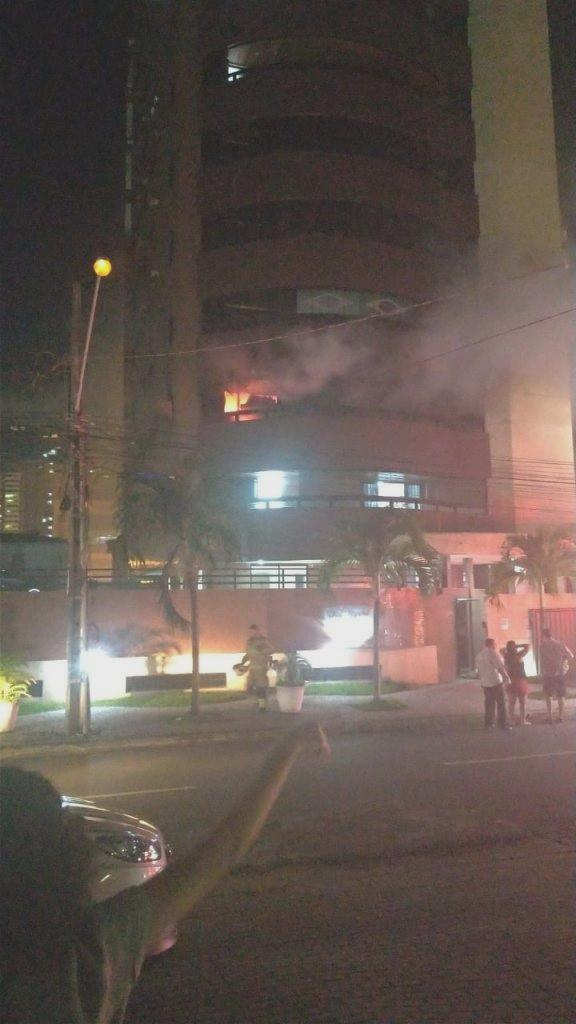Fire: (220, 389, 254, 413)
